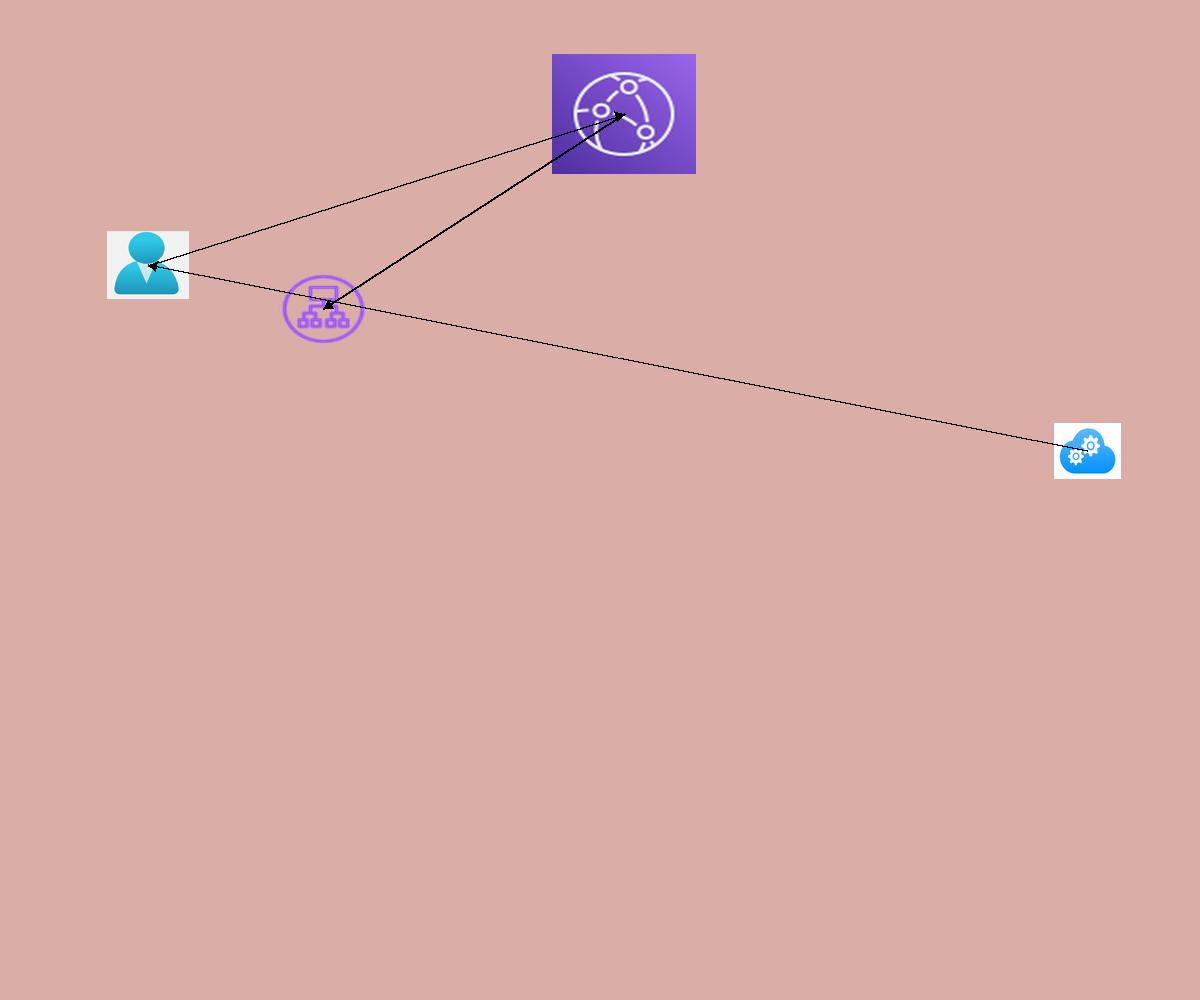AWS-CloudFront: (552, 54, 696, 174)
AWS-Res_Elastic-Load-Balancing_Application-Load-Balancer: (279, 272, 368, 346)
Azure_cloud_services: (1054, 423, 1121, 479)
Azure_users: (107, 231, 189, 299)
